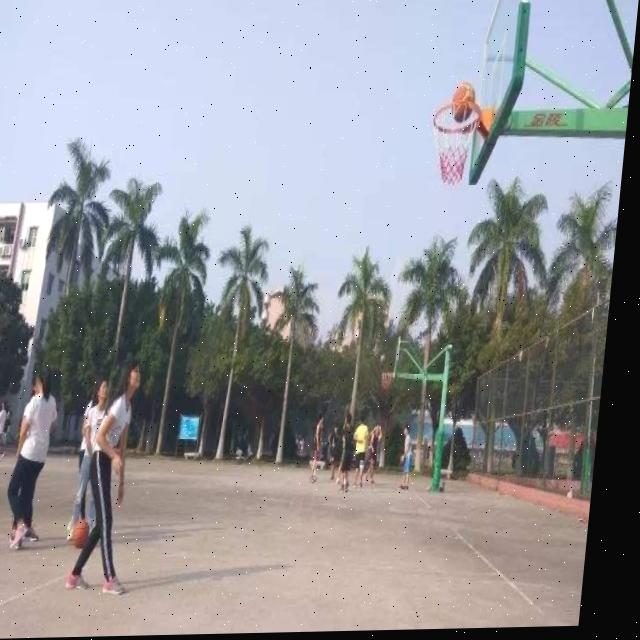basketball: (450, 80, 477, 123), (70, 519, 91, 551)
hoop: (429, 102, 481, 185), (379, 371, 393, 395)
